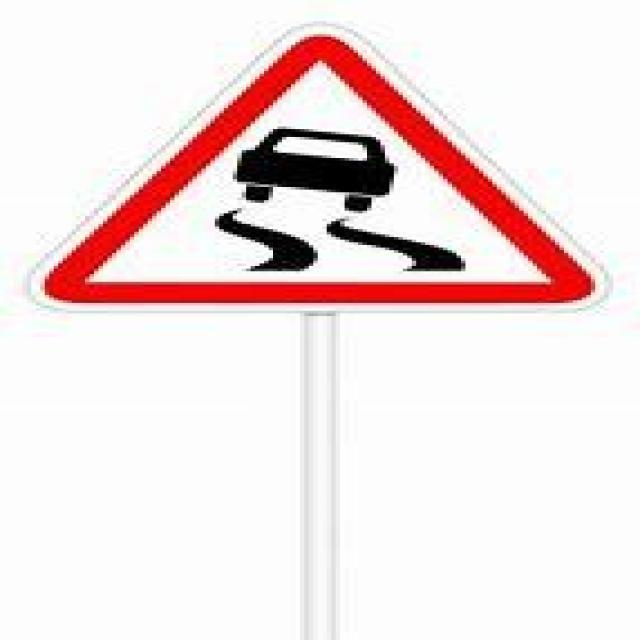slippery road: (38, 28, 594, 315)
